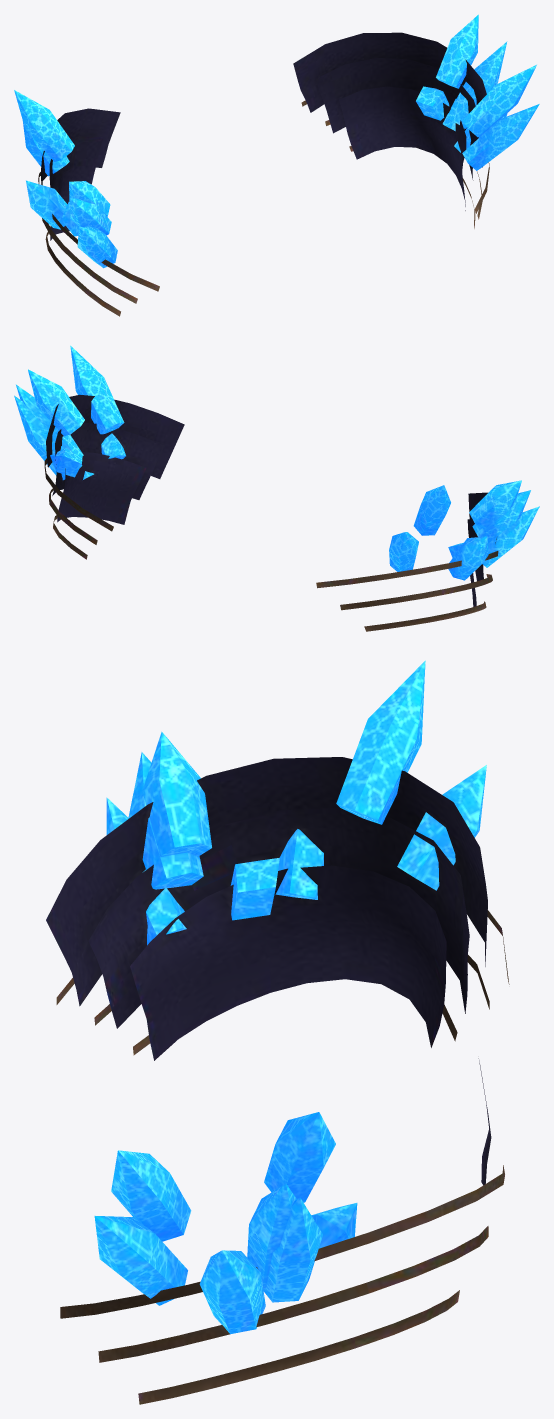
File: Ombreiras_de_Cristal_nivel100.glb
3 views of the same model, one above another, from view 1: azimuth 30°, elevation 25°; view 2: azimuth 150°, elevation 25°; view 3: azimuth 270°, elevation 25° (orthographic). The views are drawn at different scales.
Visible parts, largest first — view 1: ombreiras_de_cristal_nivel100; view 2: ombreiras_de_cristal_nivel100; view 3: ombreiras_de_cristal_nivel100.
Boxes of the visible parts, left/top/right/bottom form: ombreiras_de_cristal_nivel100: left=14, top=14, right=539, bottom=316; ombreiras_de_cristal_nivel100: left=14, top=345, right=539, bottom=631; ombreiras_de_cristal_nivel100: left=46, top=660, right=509, bottom=1404.
Size of the model in its own units: 0.7018 by 0.258 by 0.2983.
Materials: 1 (1 with a texture image).
